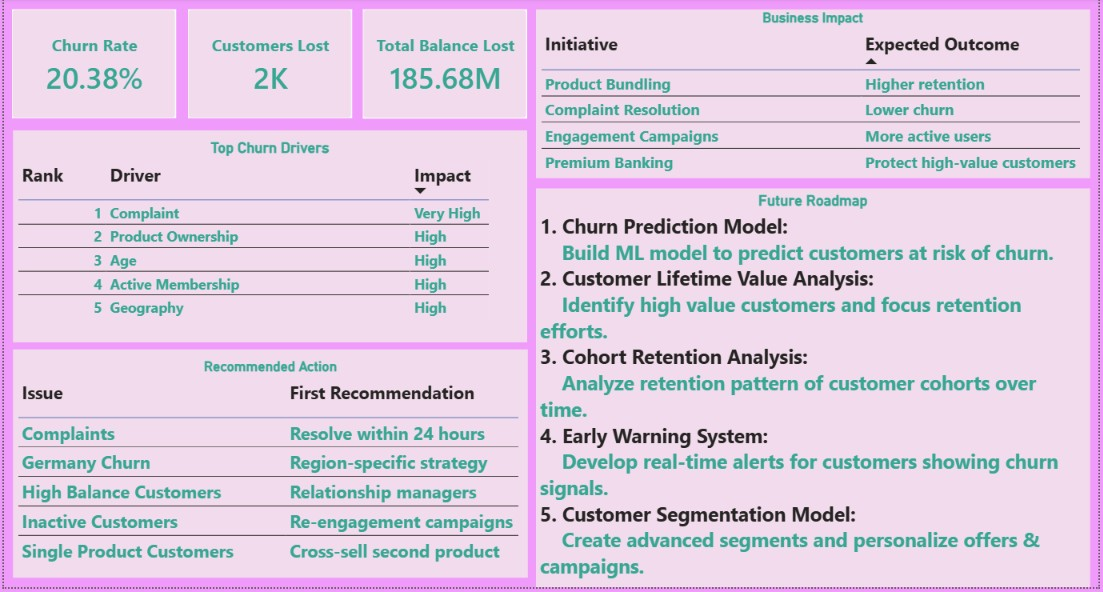

This screenshot's page, from the dashboard's own definition file:
{"tool":"powerbi","page":{"name":"Strategic Recommendations","canvas":[1338,720],"ordinal":3},"visuals":[{"type":"cardVisual","fields":{"Data":["Customer-Churn-Records.Churn Rate"]},"box":[9.8,13.5,200.5,133],"z":0},{"type":"cardVisual","fields":{"Data":["Customer-Churn-Records.Customers Lost"]},"box":[225,13.5,200.5,133],"z":1000},{"type":"cardVisual","fields":{"Data":["Customer-Churn-Records.Total Balance Lost"]},"box":[439,13.5,200.5,133.3],"z":2000},{"type":"tableEx","title":"Top Churn Drivers","fields":{"Values":["Top Churn Drivers.Rank","Top Churn Drivers.Driver","Top Churn Drivers.Impact"]},"box":[11,161.4,628.5,259.2],"z":3000},{"type":"tableEx","title":"Recommended Action","fields":{"Values":["Recommended Actions.Issue","Min(Recommended Actions.Recommendation)"]},"box":[11,429.2,629.8,278.8],"z":4000},{"type":"tableEx","title":"Business Impact","fields":{"Values":["Expected Business Impact.Initiative","Expected Business Impact.Expected Outcome"]},"box":[650.5,13.5,677.4,206.7],"z":5000},{"type":"textbox","title":"Future Roadmap","box":[650.5,232.3,677.4,487.9],"z":6000}]}

Visuals, with their boxes in screenshot pixels (x1, y1, x2, y2), scaled from the page's 1338x720 canvas onto the 1103x592 screenshot:
cardVisual - Customer-Churn-Records.Churn Rate: detection(8, 11, 173, 120)
cardVisual - Customer-Churn-Records.Customers Lost: detection(185, 11, 351, 120)
cardVisual - Customer-Churn-Records.Total Balance Lost: detection(362, 11, 527, 121)
"Top Churn Drivers" tableEx: detection(9, 133, 527, 346)
"Recommended Action" tableEx: detection(9, 353, 528, 582)
"Business Impact" tableEx: detection(536, 11, 1095, 181)
"Future Roadmap" textbox: detection(536, 191, 1095, 591)
